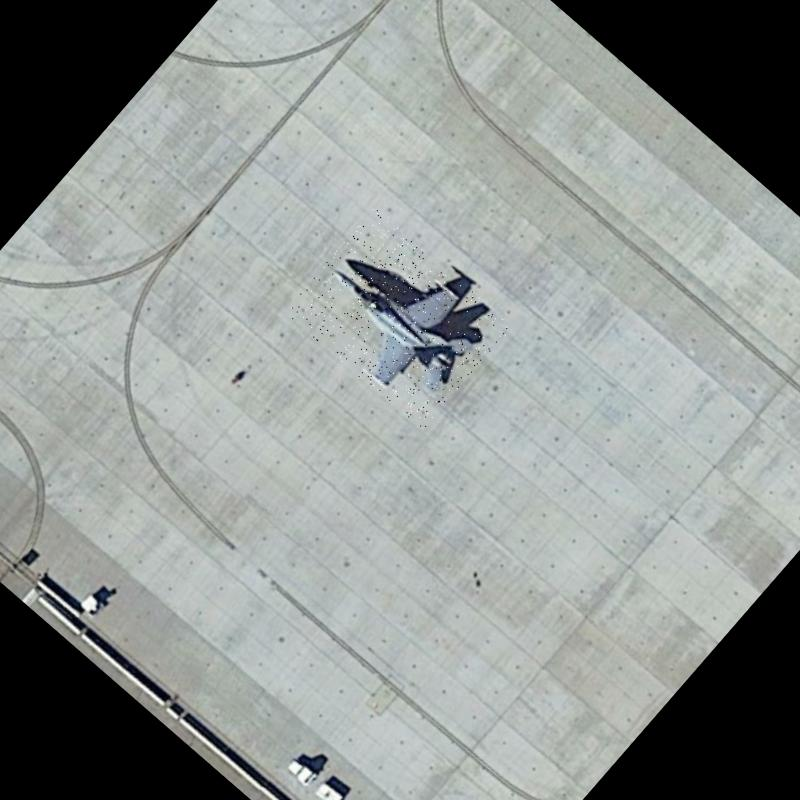A16: (284, 207, 512, 432)
